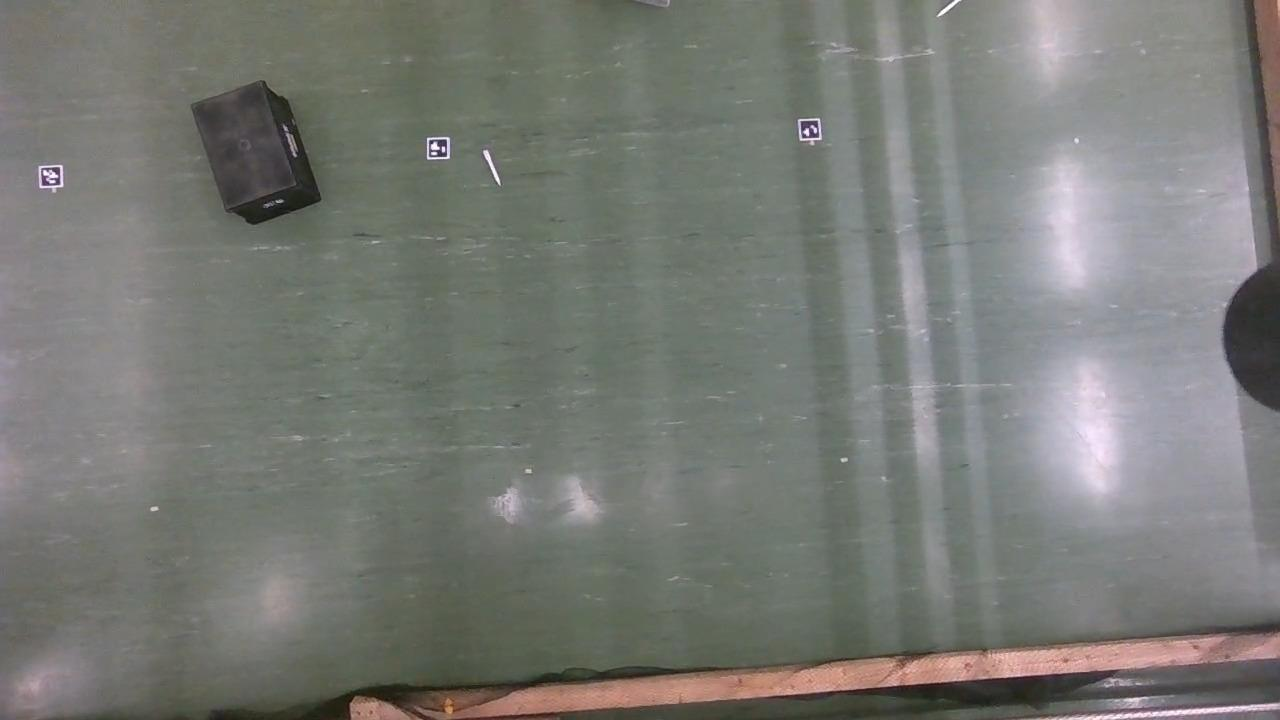probes: (486, 151, 503, 188)
rako: (191, 82, 321, 227)
